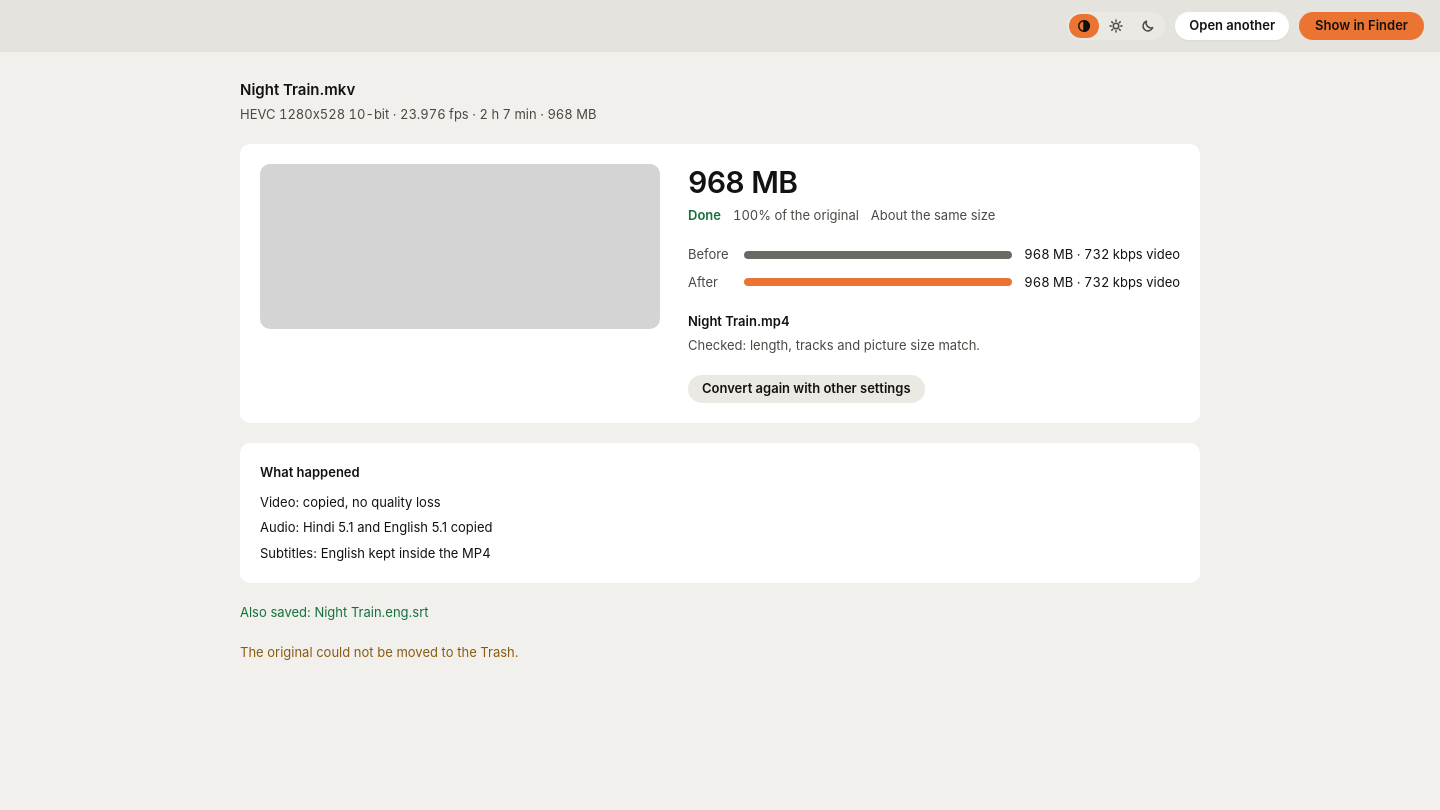
Test: converting and done › shows the finished size, what else was saved, and offers to convert again
This screenshot has width=1440, height=810.
Expected: the text "Done" is shown, x1=688 y1=206 x2=721 y2=225
Expected: the text "Before" is shown, x1=688 y1=245 x2=732 y2=265
Click the button "Convert again with other settings": {"x": 806, "y": 389} x1=688 y1=375 x2=925 y2=403
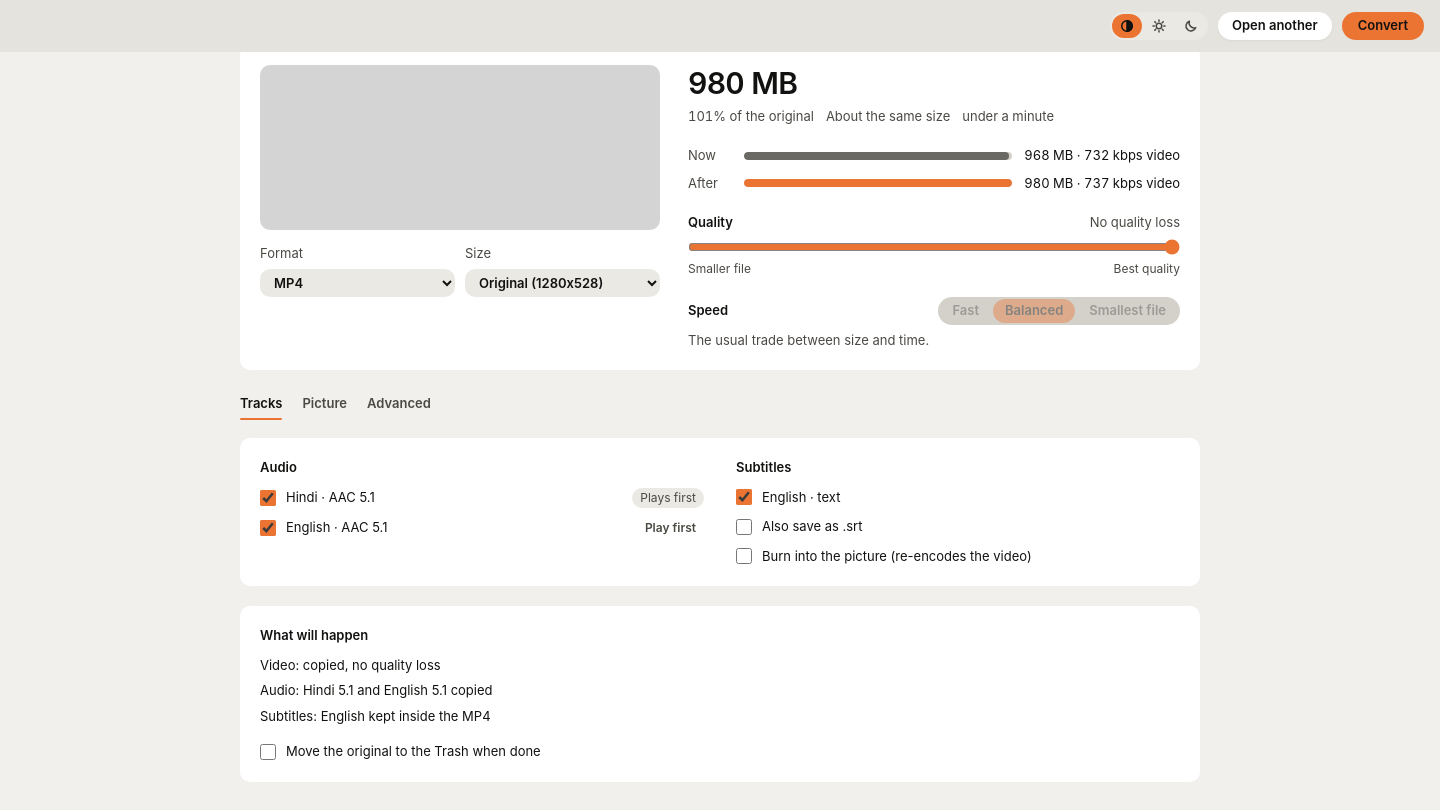
Expected: the element "What will happen" is shown, x1=240 y1=606 x2=1200 y2=782
